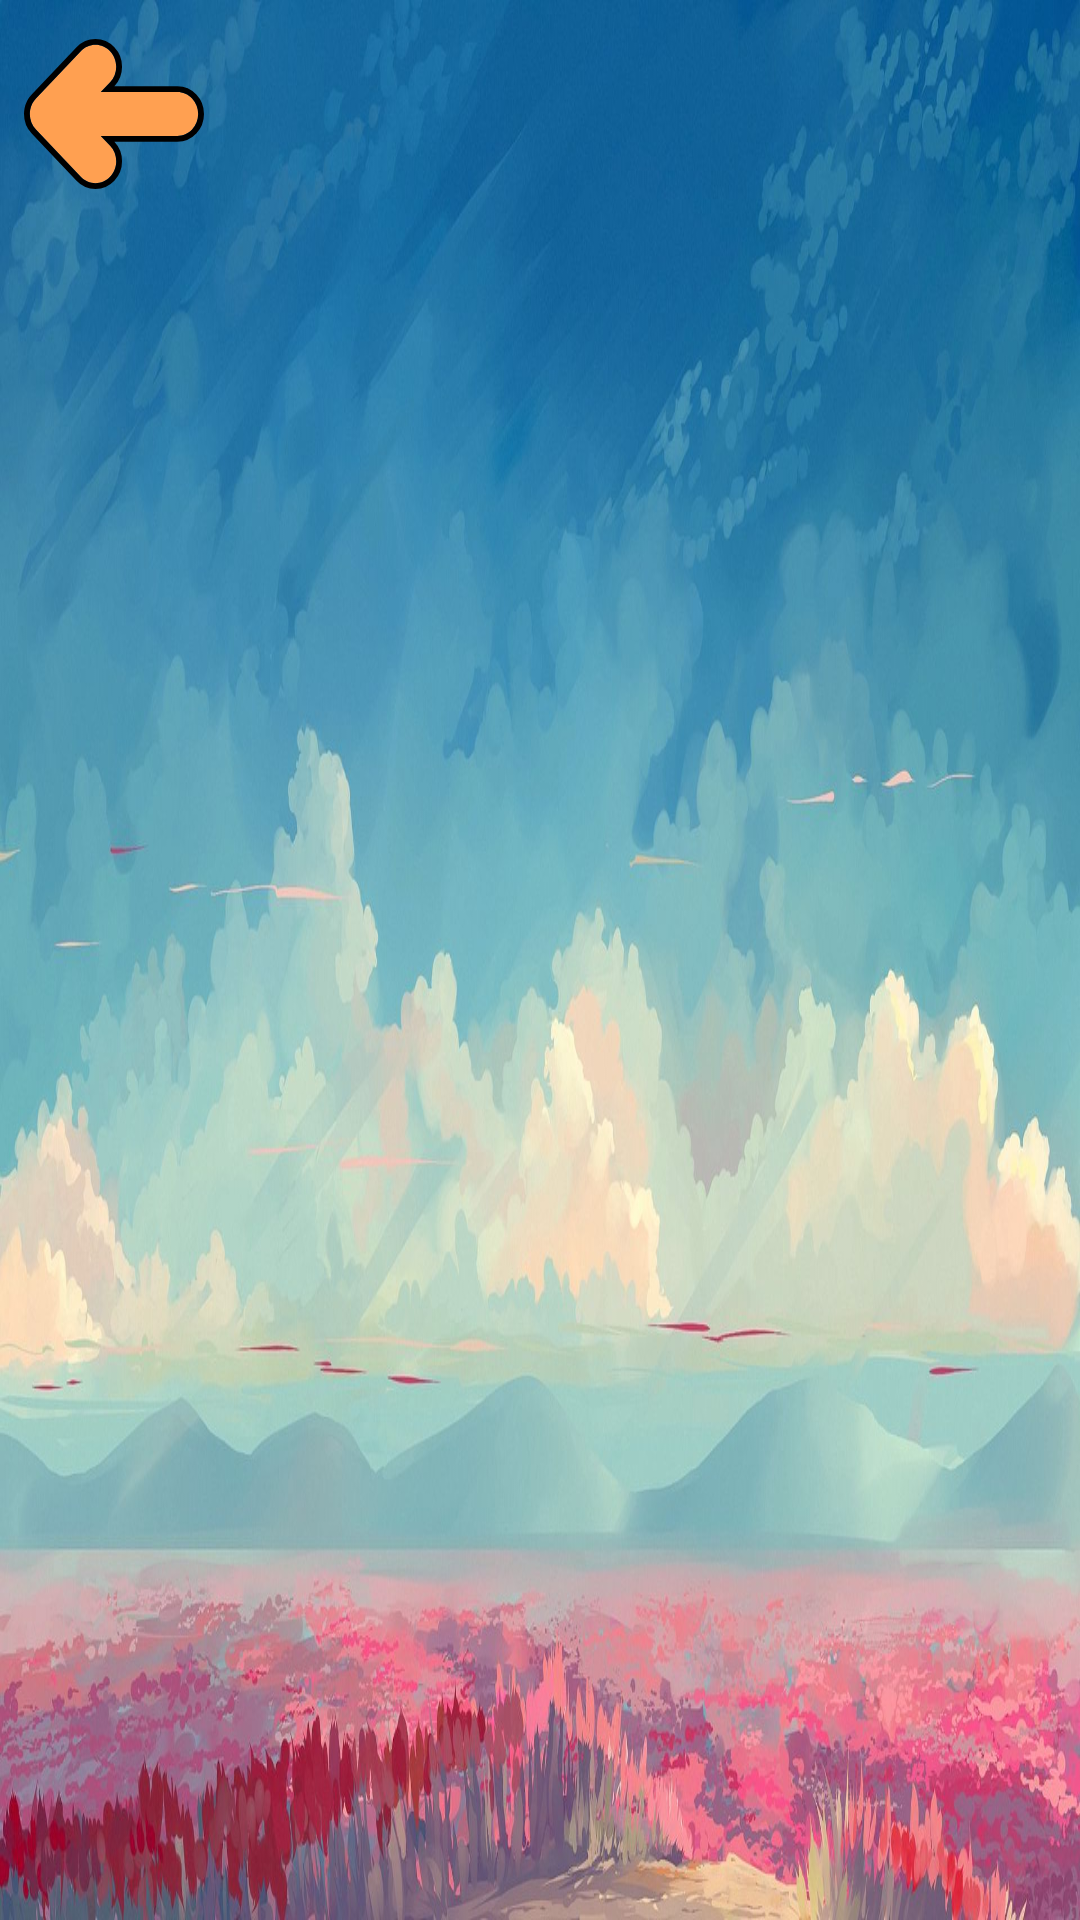

Icon bounding boxes for this 1080w x 1920h phone screenshot, format (x1, y1, x2, y2):
arrow back: (24, 24, 204, 204)
